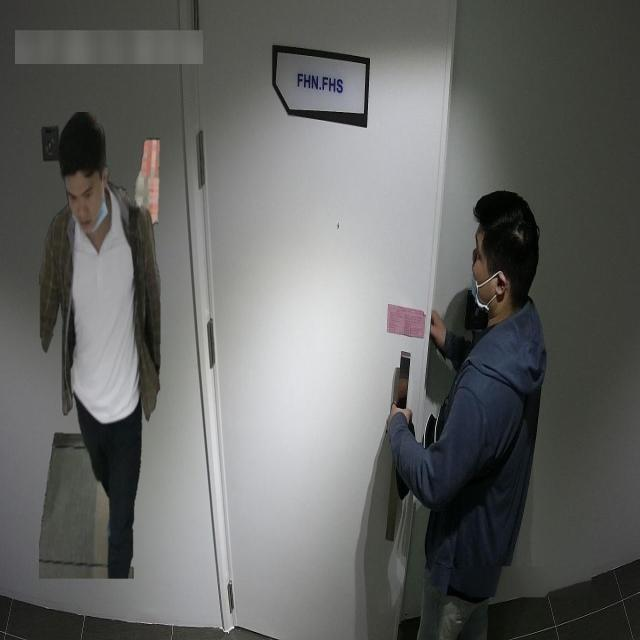hairnet: (62, 180, 110, 238), (467, 226, 492, 312)
